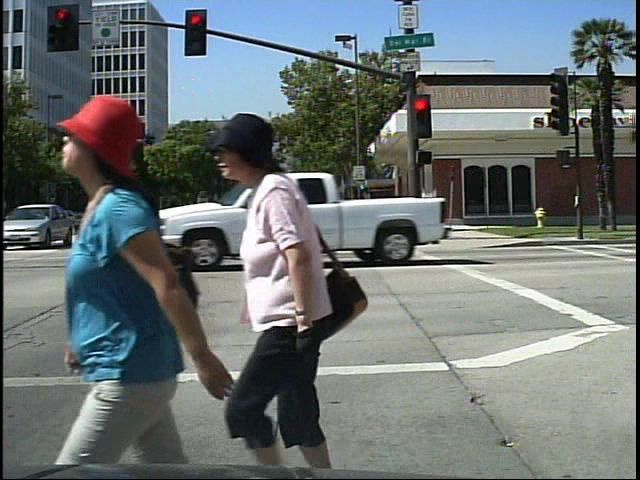person: (217, 111, 401, 475), (70, 73, 213, 469)
